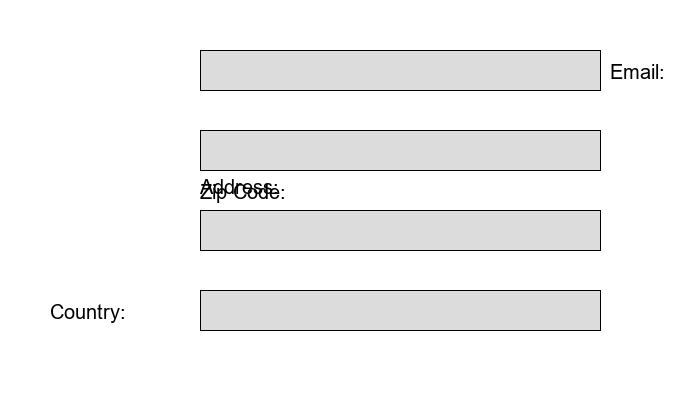Label: (200, 180, 280, 199), (50, 300, 120, 319), (200, 175, 274, 190), (610, 60, 659, 75)
Textbox: (200, 50, 600, 90), (200, 130, 600, 170), (200, 210, 600, 250), (200, 290, 600, 330)
